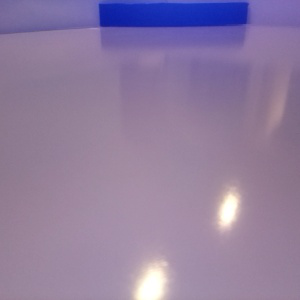zone: (99, 4, 248, 26)
